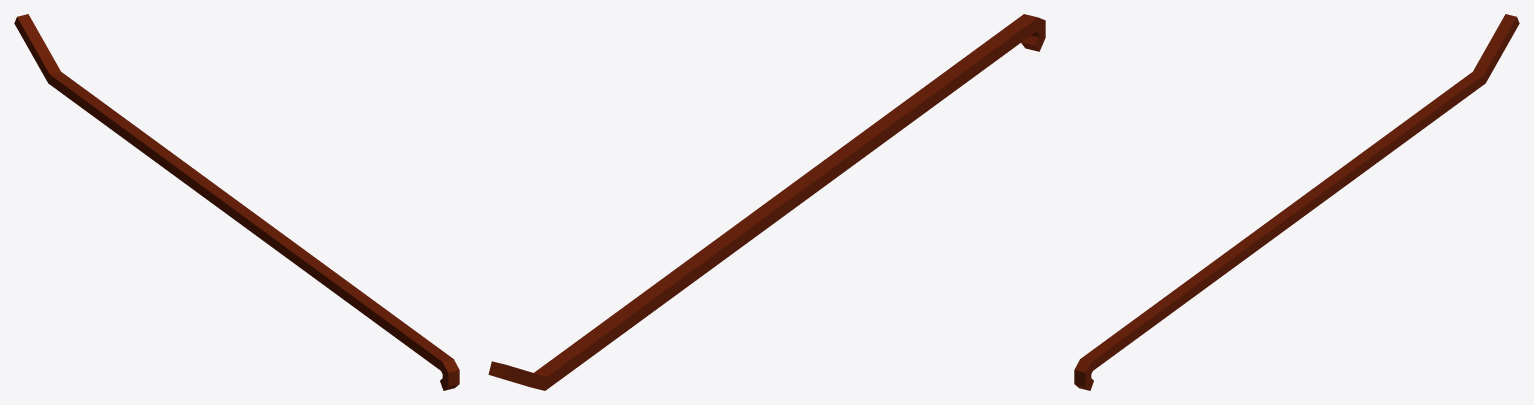
File: original-25.obj
The picture shows the model from 3 angles, left to right: view 1: azimuth 30°, elevation 25°; view 2: azimuth 150°, elevation 25°; view 3: azimuth 330°, elevation 25°; orthographic projection. The views are drawn at different scales.
Parts seen in each view (by area): view 1: mesh23/mesh23-geometry#mesh23-geometry; view 2: mesh23/mesh23-geometry#mesh23-geometry; view 3: mesh23/mesh23-geometry#mesh23-geometry.
Boxes of the visible parts, bbox=[...] form: mesh23/mesh23-geometry#mesh23-geometry: bbox=[14, 14, 459, 390]; mesh23/mesh23-geometry#mesh23-geometry: bbox=[488, 14, 1045, 390]; mesh23/mesh23-geometry#mesh23-geometry: bbox=[1074, 14, 1519, 390].
Bounding box in the file's own units: 0.00819 × 0.0426 × 0.5403.
